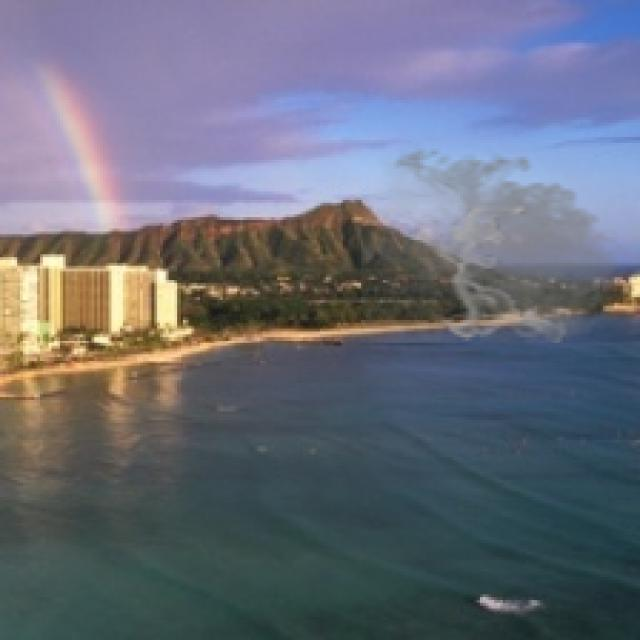smoke: (360, 143, 637, 348)
